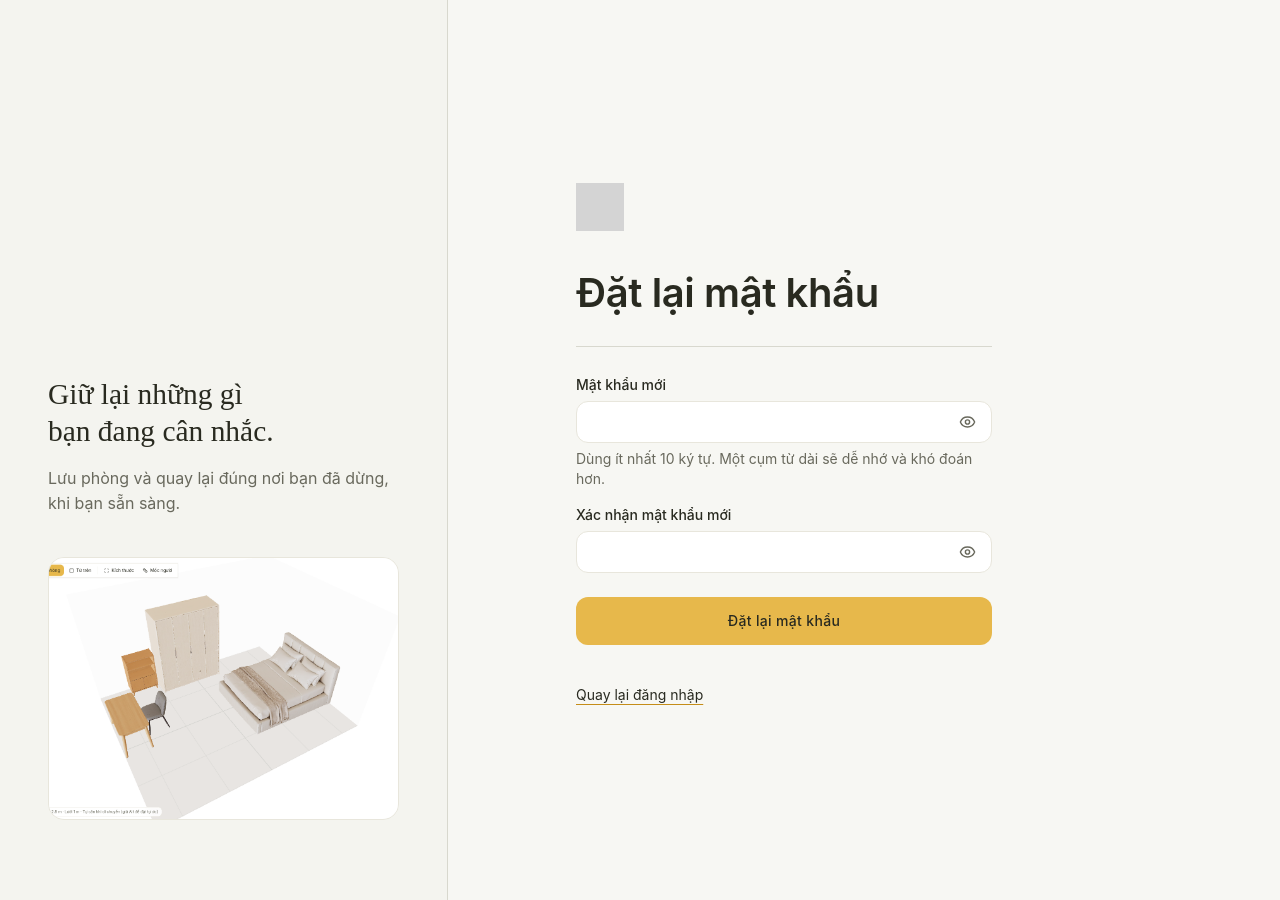
it: ResetPasswordPage › submits the token/email from the link and shows the success message
Step 1. Type "password1234" into the password field labelled "Mật khẩu mới" → (784, 422), box x1=576 y1=401 x2=992 y2=443
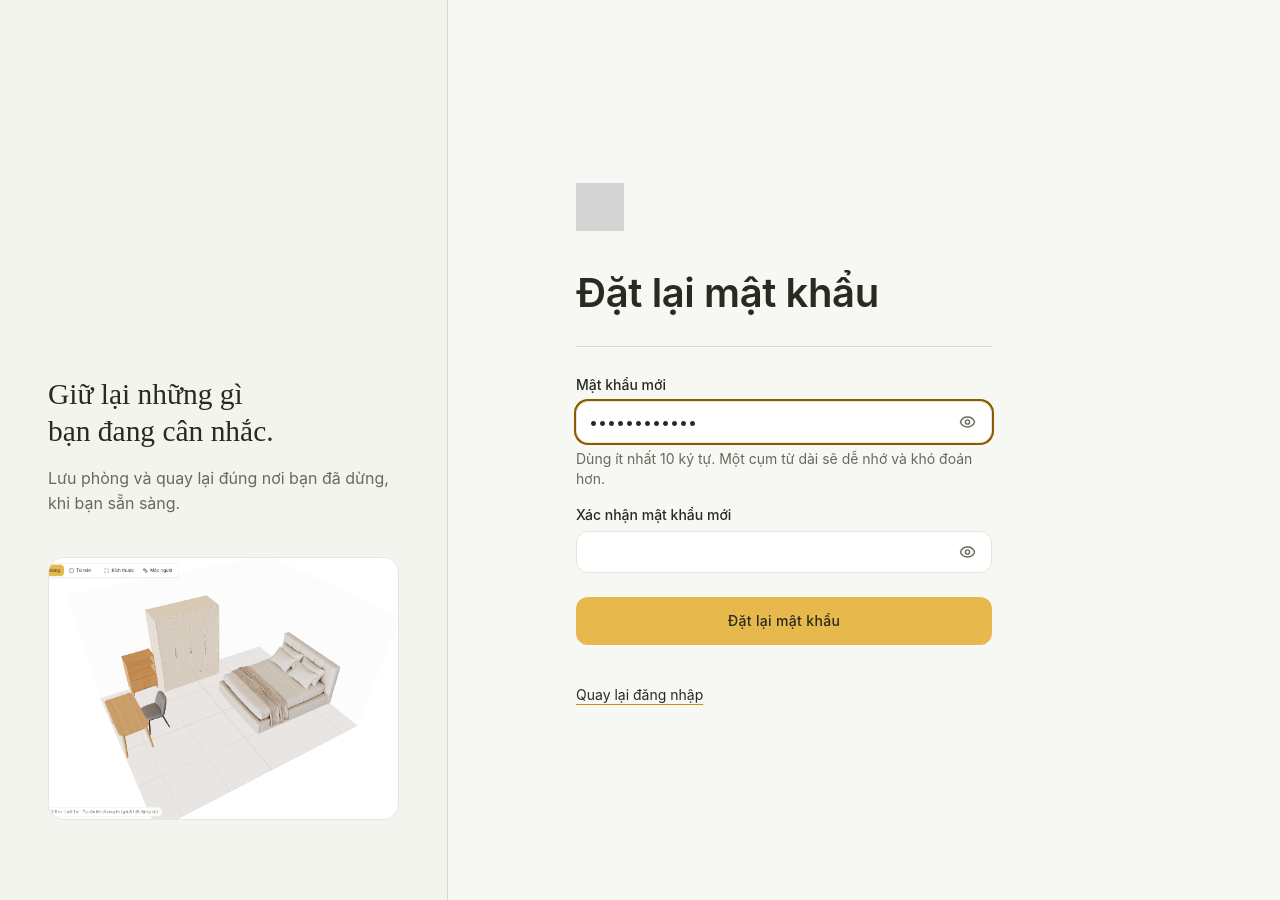
Step 2. Type "password1234" into the password field labelled "Xác nhận mật khẩu mới" → (784, 552), box x1=576 y1=531 x2=992 y2=573
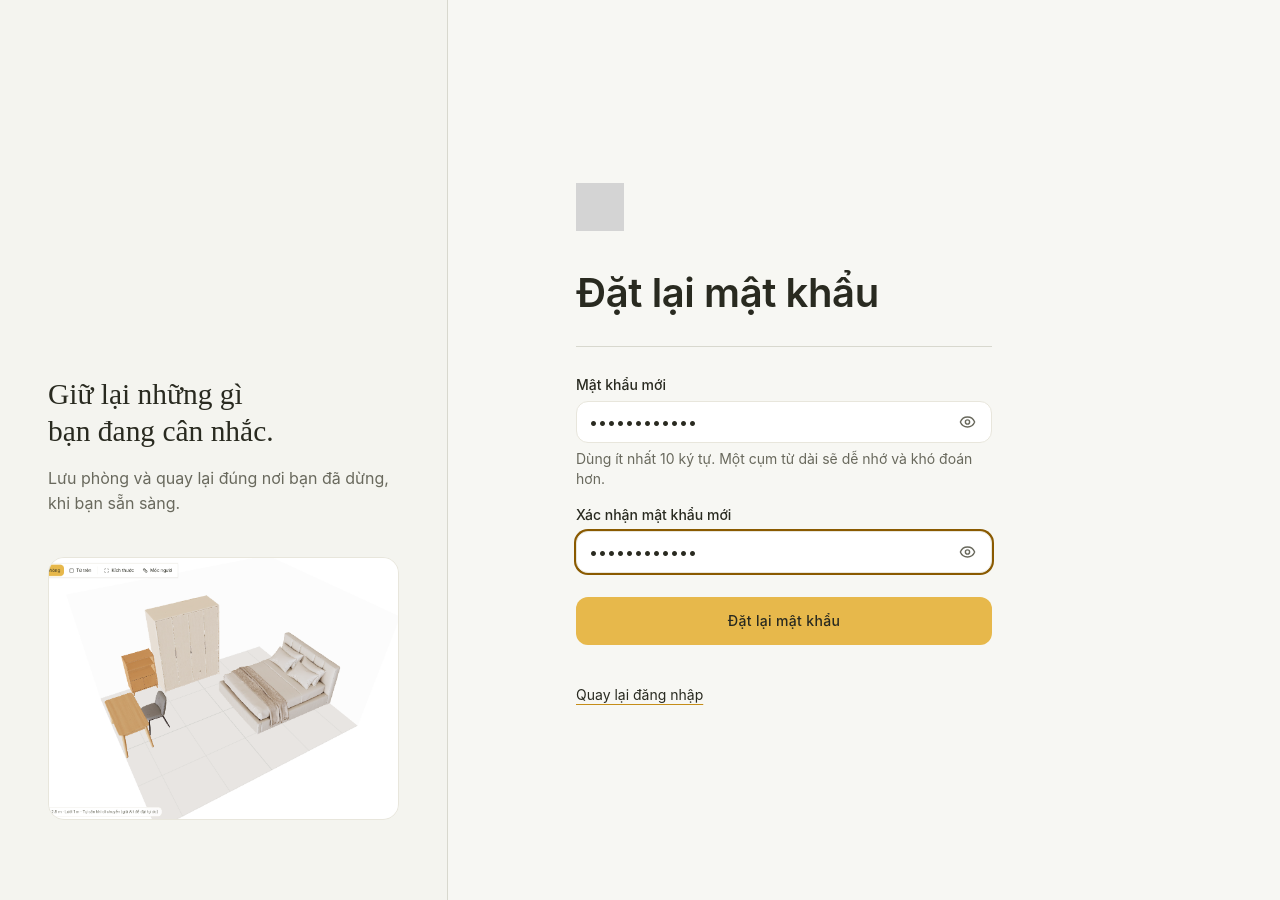
Step 3. Click the button "Đặt lại mật khẩu" → (784, 621), box x1=576 y1=597 x2=992 y2=645
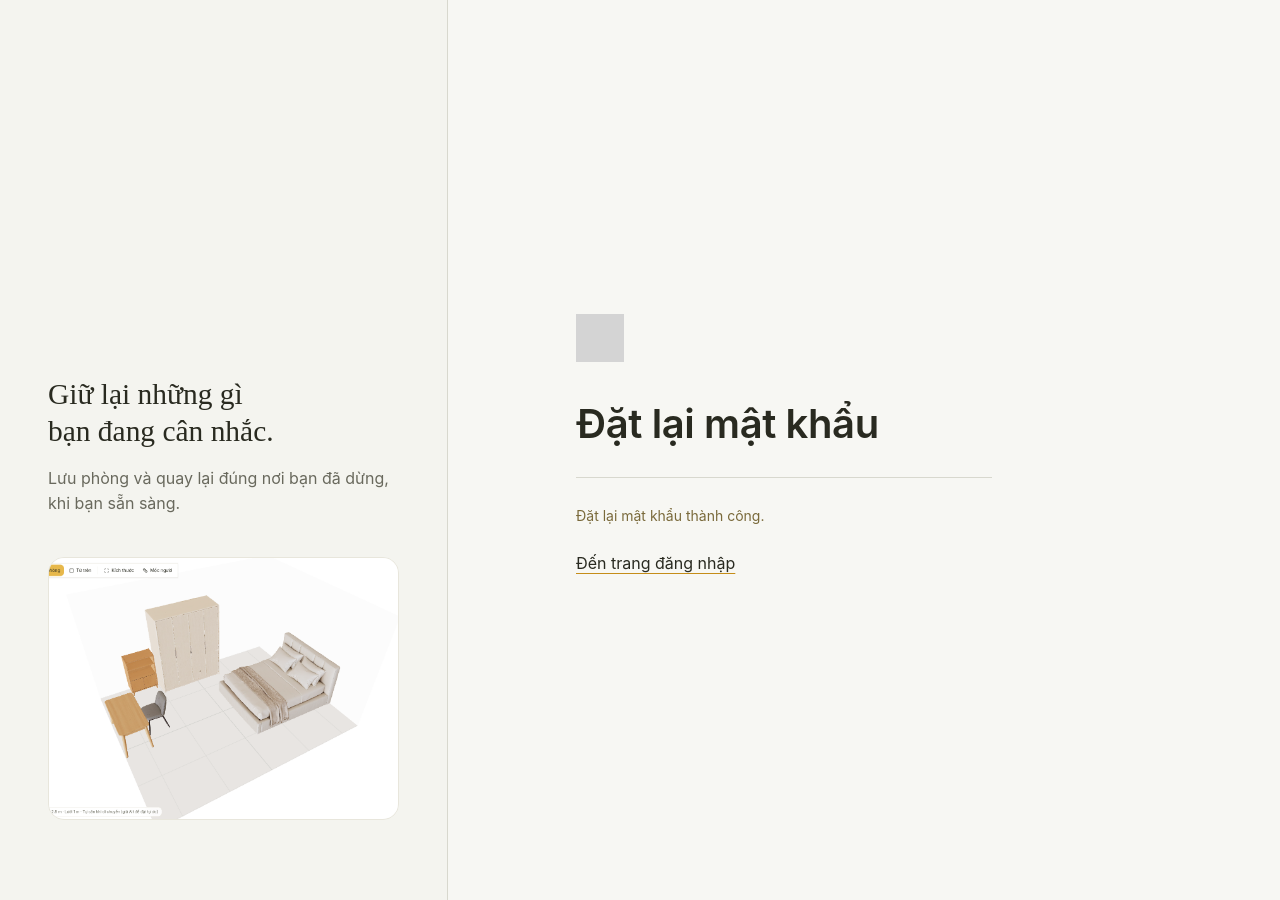
Expected: the text "Đặt lại mật khẩu thành công." is shown, x1=576 y1=507 x2=764 y2=524
